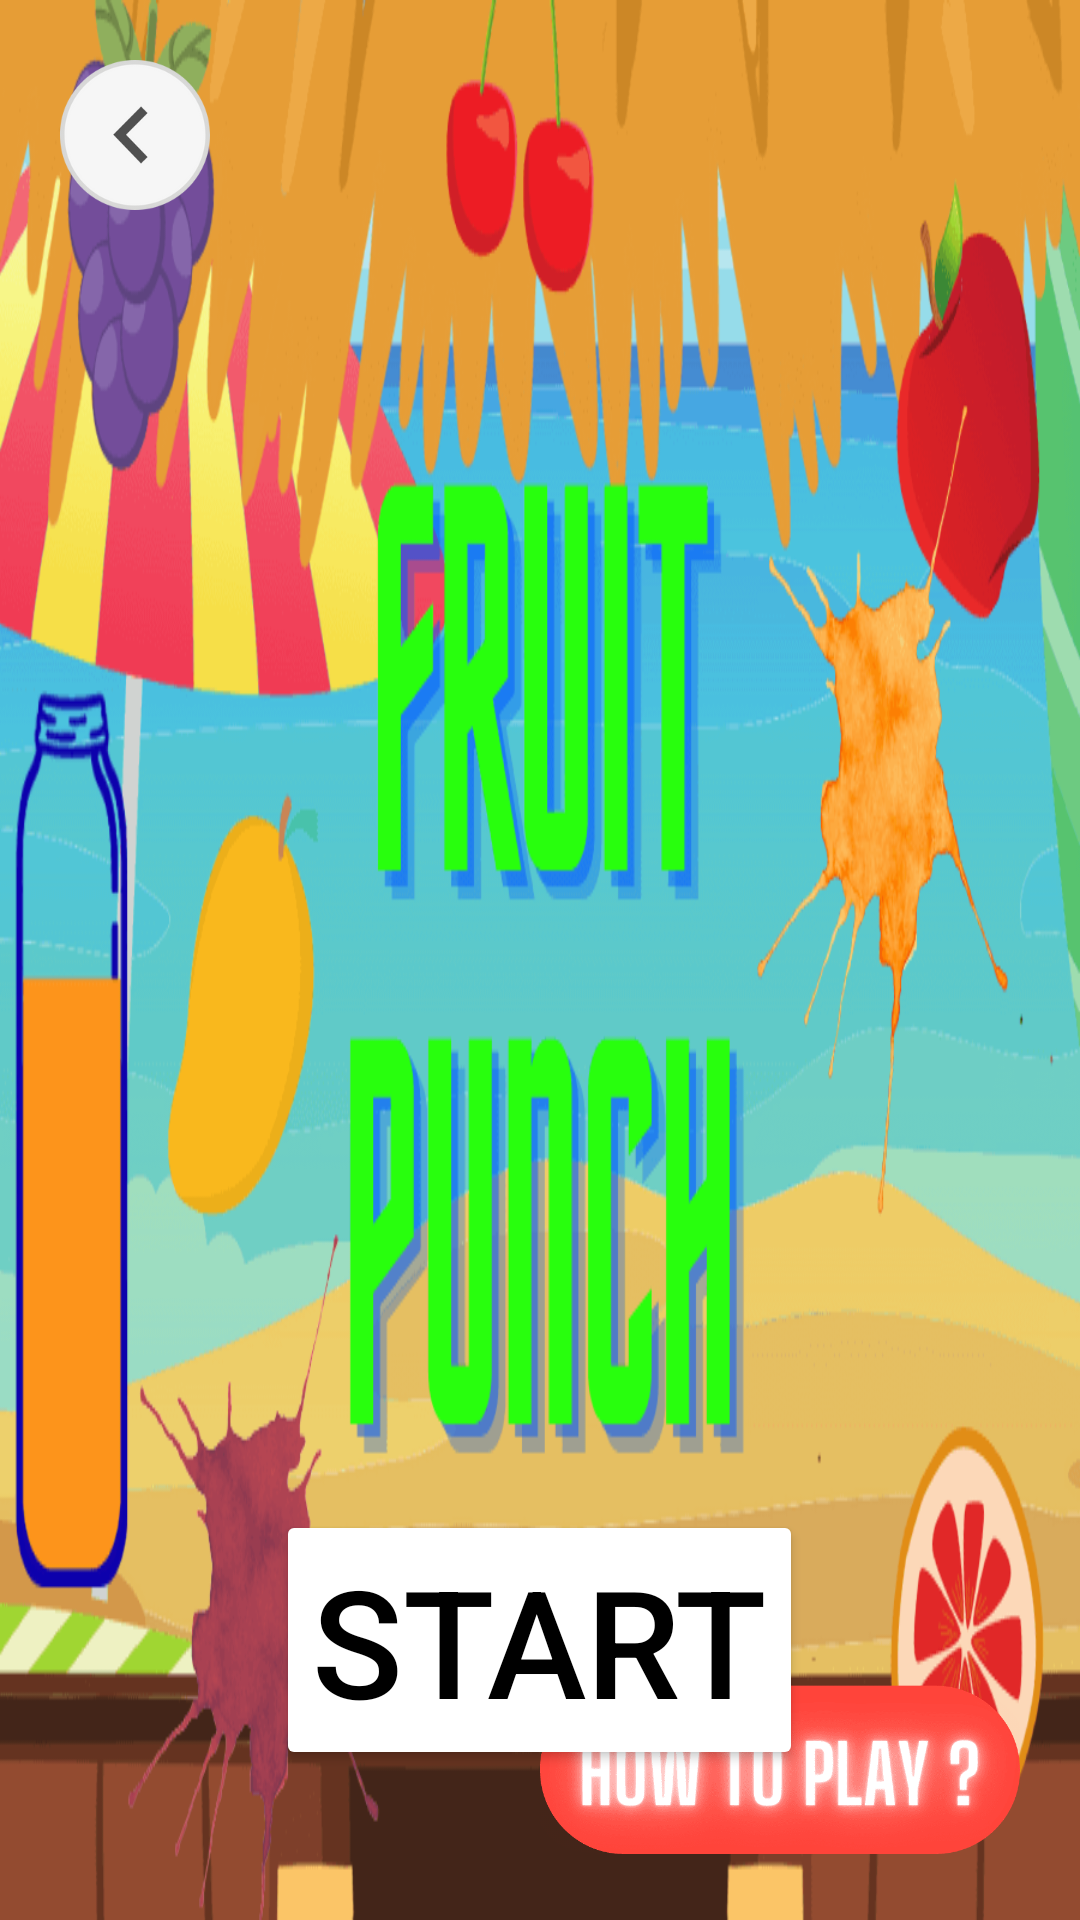

Point at icon controls on the screen. Image size 1080×1920, points as (x=x, y=y).
back: (x=135, y=135)
